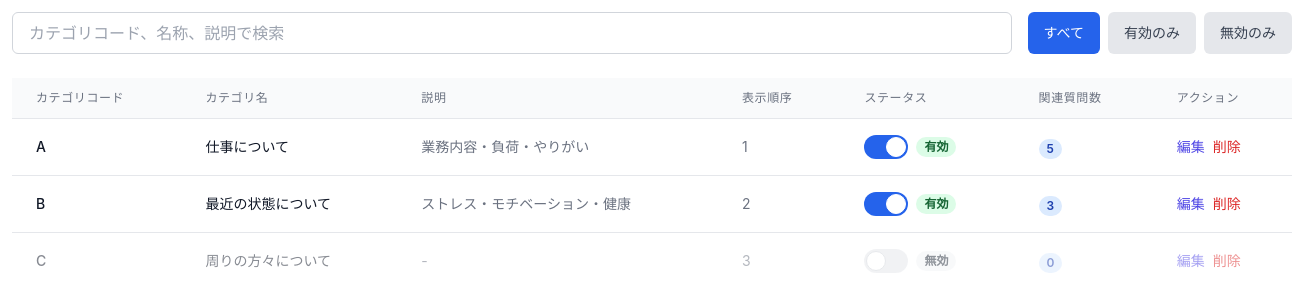
Test: CategoryTableWithFilter（統合テスト） › フィルタ機能 › 「無効のみ」フィルタで無効カテゴリのみ表示する
The width and height of the screenshot is (1304, 290).
Click the button "無効のみ": (1248, 33) [1204,12,1292,54]
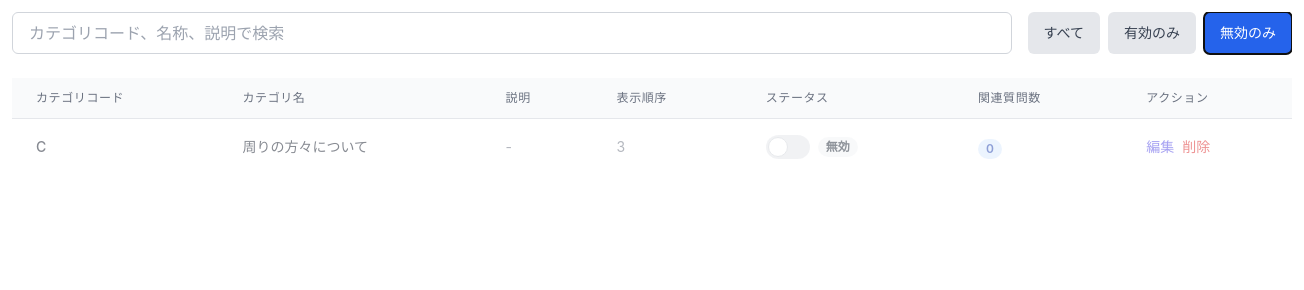
Expected: the text "周りの方々について" is shown, [218,118,482,175]
Now the text "仕事について" is gone
Now the text "最近の状態について" is gone
